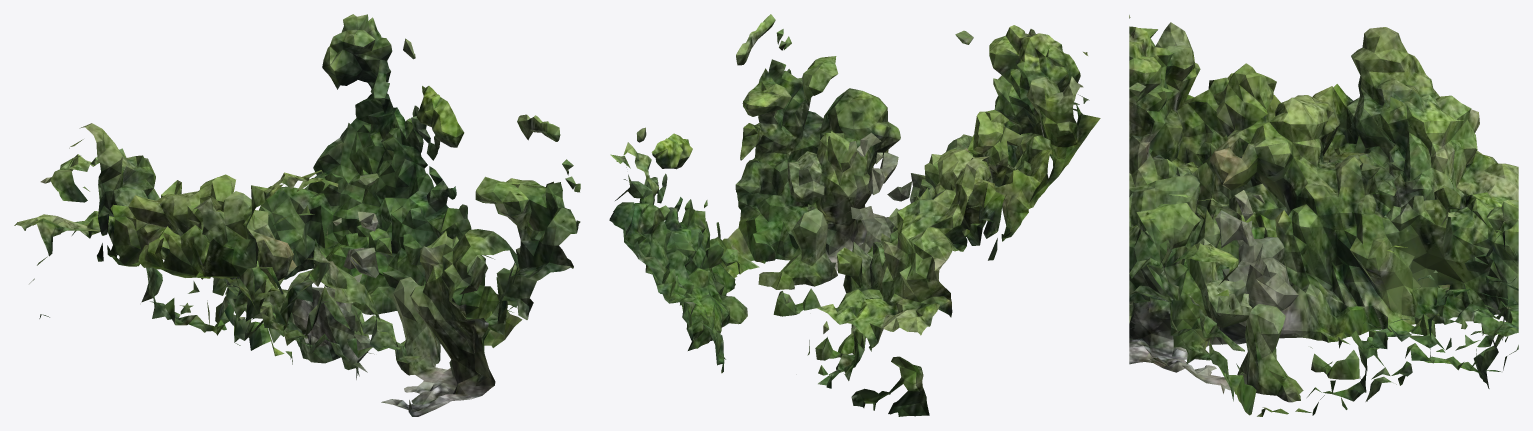
3 views of the same model, side by side, from view 1: azimuth 30°, elevation 25°; view 2: azimuth 150°, elevation 25°; view 3: azimuth 270°, elevation 25° (orthographic). The views are drawn at different scales.
Size of the model in its own units: 52.22 by 39.32 by 52.22.
7 materials, 7 textured.
